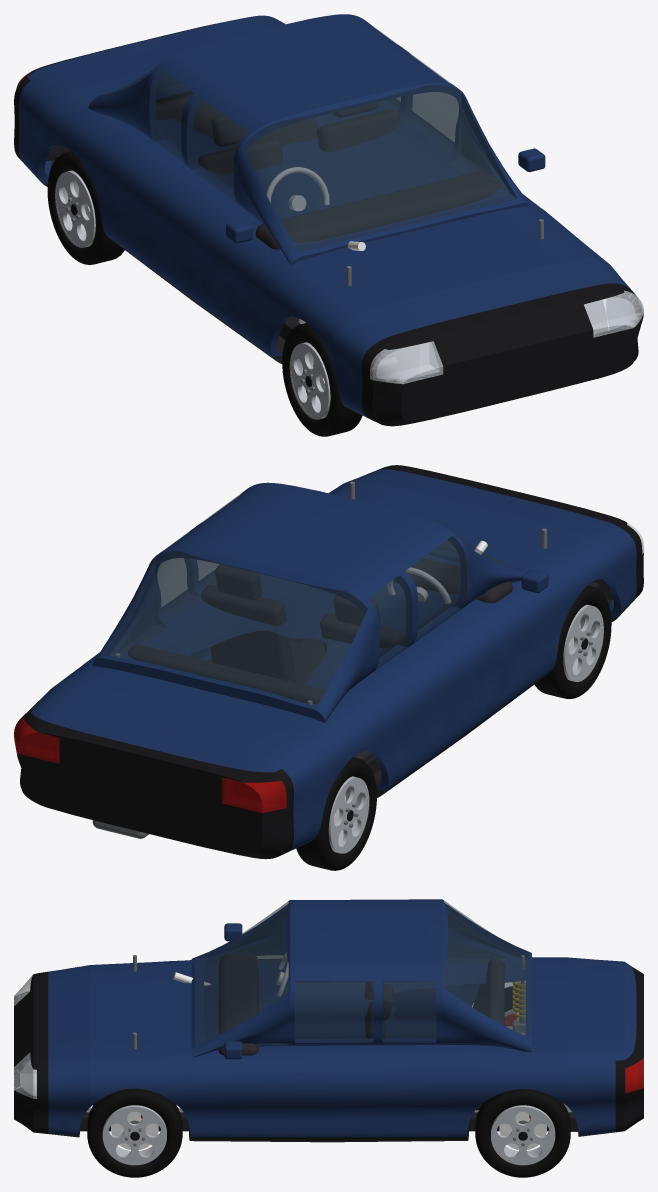
Rendered from AsterC1.glb.
3 renders of one model, top to bottom at view 1: azimuth 30°, elevation 25°; view 2: azimuth 150°, elevation 25°; view 3: azimuth 270°, elevation 25°, orthographic. The views are drawn at different scales.
Parts seen in each view (by area): view 1: Windshield, Hood, Roof panel, Front bumper, Left front door, Pillars and roof rails, Left rear door, Right front door, Left rear quarter panel, Dashboard, Trunk lid, Tyre (×2) (+17 smaller); view 2: Rear window, Rear bumper, Roof panel, Pillars and roof rails, Hood, Left front door, Trunk lid, Left rear door, Left rear quarter panel, Passenger seat, Tyre (×2), Left front fender (+14 smaller); view 3: Hood, Pillars and roof rails, Right front door, Roof panel, Right rear door, Right rear quarter panel, Windshield, Trunk lid, Tyre (×2), Rear window, Right front fender, Rim (×2) (+15 smaller).
Part boxes in pixels (left/top/right/bottom): Windshield: left=243, top=85, right=517, bottom=251; Hood: left=269, top=200, right=621, bottom=344; Roof panel: left=154, top=14, right=455, bottom=138; Front bumper: left=361, top=283, right=643, bottom=426; Left front door: left=163, top=158, right=361, bottom=342; Pillars and roof rails: left=27, top=15, right=540, bottom=283; Left rear door: left=100, top=125, right=304, bottom=279; Right front door: left=306, top=120, right=523, bottom=199; Left rear quarter panel: left=18, top=75, right=190, bottom=210; Dashboard: left=255, top=170, right=502, bottom=249; Trunk lid: left=39, top=19, right=282, bottom=113; Tyre (×2): left=47, top=151, right=362, bottom=436; Rear window: left=104, top=551, right=367, bottom=706; Rear bumper: left=14, top=708, right=293, bottom=859; Roof panel: left=158, top=482, right=459, bottom=605; Pillars and roof rails: left=31, top=488, right=551, bottom=772; Hood: left=328, top=469, right=624, bottom=598; Left front door: left=309, top=578, right=535, bottom=746; Trunk lid: left=42, top=667, right=332, bottom=763; Left rear door: left=291, top=625, right=450, bottom=791; Left rear quarter panel: left=207, top=685, right=386, bottom=852; Passenger seat: left=201, top=564, right=324, bottom=681; Tyre (×2): left=296, top=585, right=611, bottom=870; Left front fender: left=533, top=531, right=636, bottom=683; Hood: left=48, top=957, right=194, bottom=1078; Pillars and roof rails: left=194, top=902, right=636, bottom=1078; Right front door: left=224, top=1008, right=366, bottom=1137; Roof panel: left=288, top=899, right=443, bottom=985; Right rear door: left=366, top=1008, right=470, bottom=1136; Right rear quarter panel: left=470, top=1001, right=615, bottom=1135; Windshield: left=195, top=901, right=288, bottom=1045; Trunk lid: left=535, top=957, right=615, bottom=1059; Tyre (×2): left=87, top=1088, right=570, bottom=1177; Rear window: left=444, top=900, right=528, bottom=1043; Right front fender: left=48, top=1072, right=224, bottom=1136; Rim (×2): left=102, top=1105, right=555, bottom=1165.
Size of the model in its own units: 1.99 by 1.43 by 4.22.
